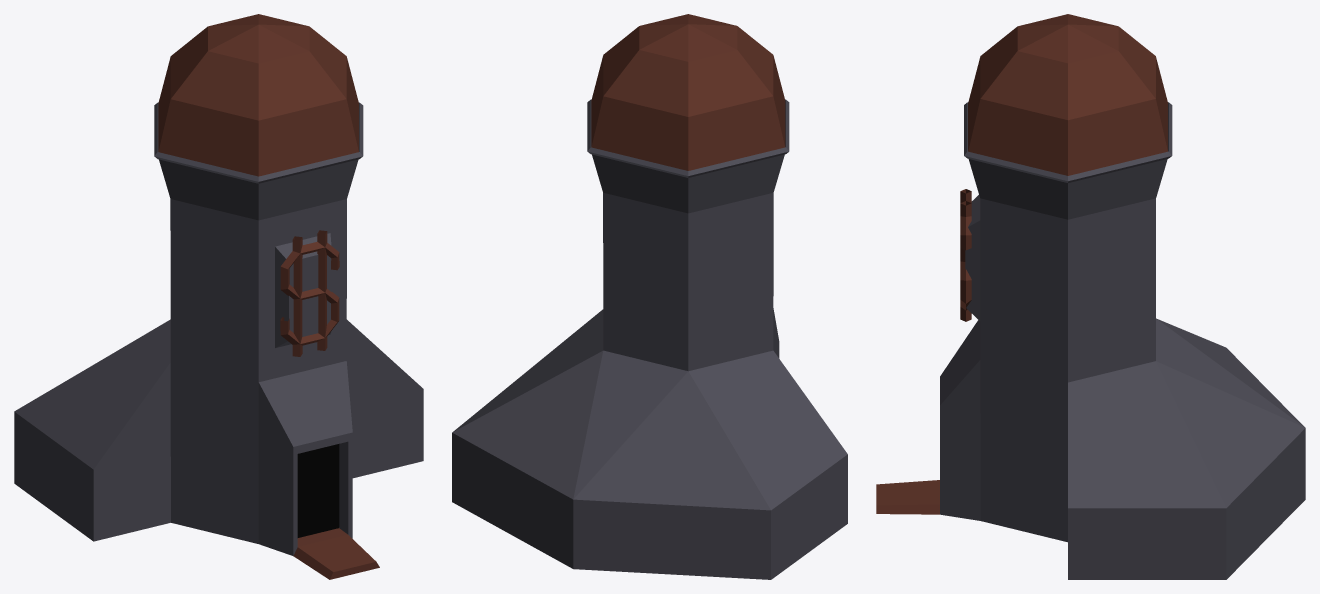
File: Store.fbx
The picture shows the model from 3 angles, left to right: view 1: azimuth 30°, elevation 25°; view 2: azimuth 150°, elevation 25°; view 3: azimuth 270°, elevation 25°; orthographic projection. The views are drawn at different scales.
Parts seen in each view (by area): view 1: Corpus; view 2: Corpus; view 3: Corpus.
Boxes of the visible parts, bbox=[...] form: Corpus: bbox=[14, 14, 423, 579]; Corpus: bbox=[452, 14, 847, 579]; Corpus: bbox=[876, 14, 1305, 579].
Size of the model in its own units: 960 by 1330 by 1085.
